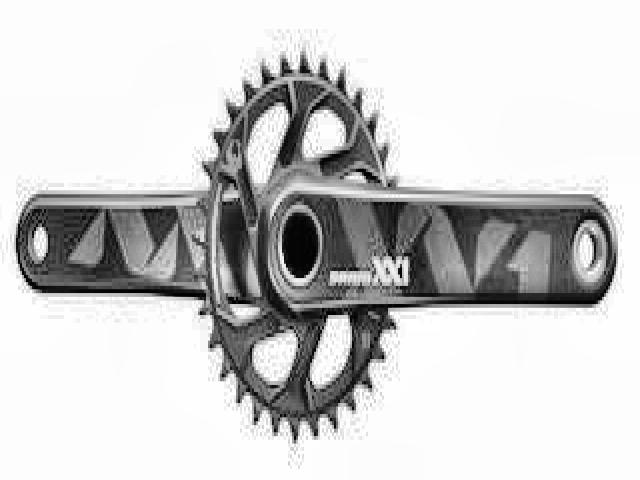cranks_set: (193, 51, 620, 440)
